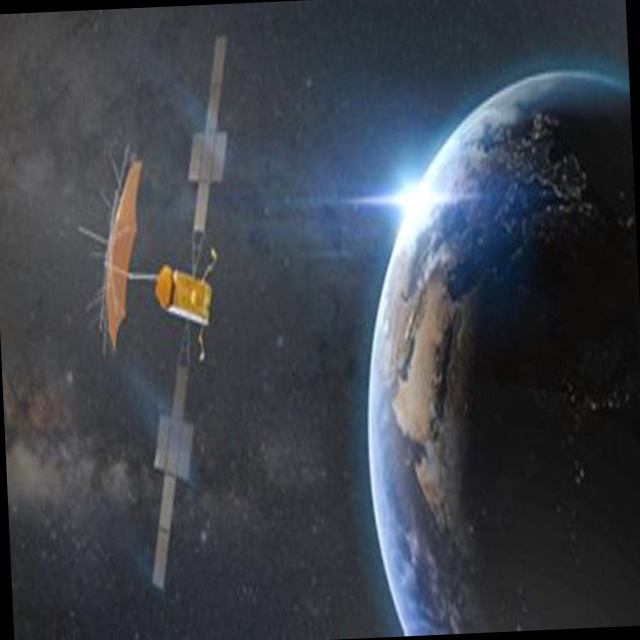medium_debris: (52, 3, 279, 639)
